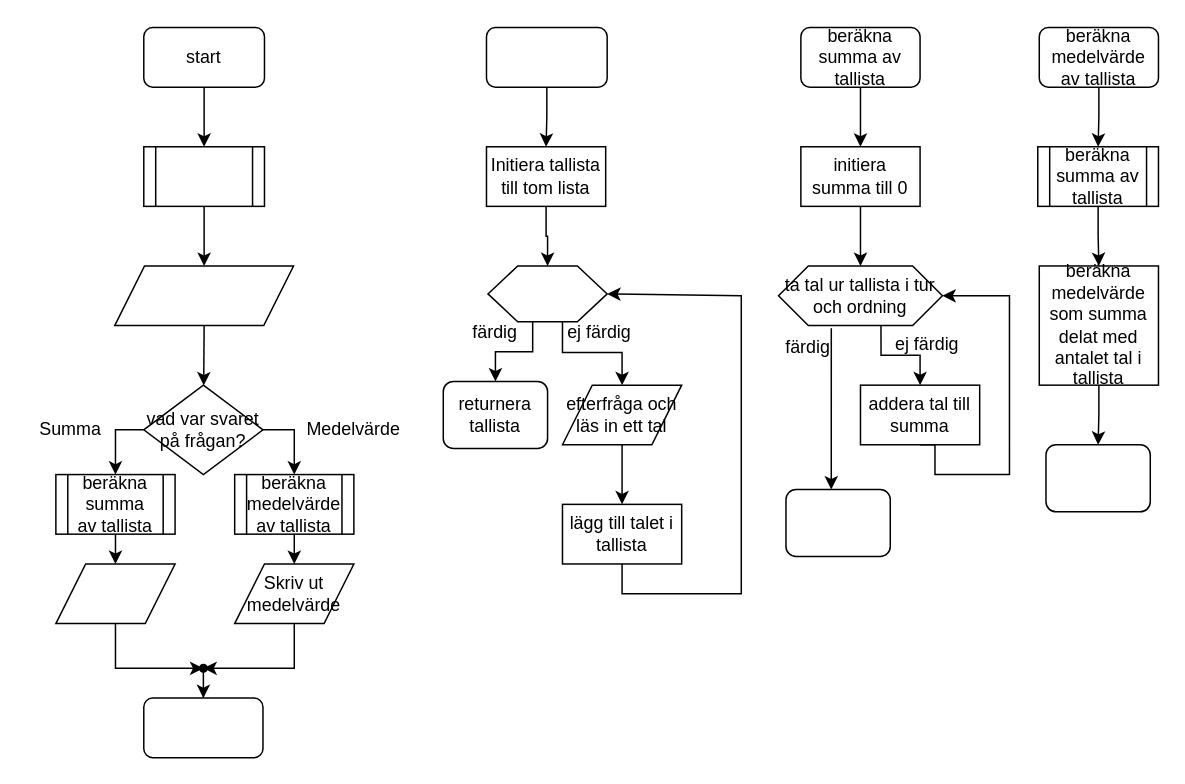
Some shapes in this 1185 by 784 pixel diagram are drawn without their labels. The shapes that lost their labels are listed below. From the top down, each one's centre as x and y in pixels, then its label:
At point (546, 56): "hämta in fem tal".
At point (203, 175): "hämta in fem tal till tallista".
At point (203, 295): "fråga vad som ska beräknas".
At point (546, 293): "for k in range(5):".
At point (1097, 477): "returnera medelvärde".
At point (837, 522): "returnera summa".
At point (114, 593): "Skriv ut summa".
At point (202, 727): "stopp".
